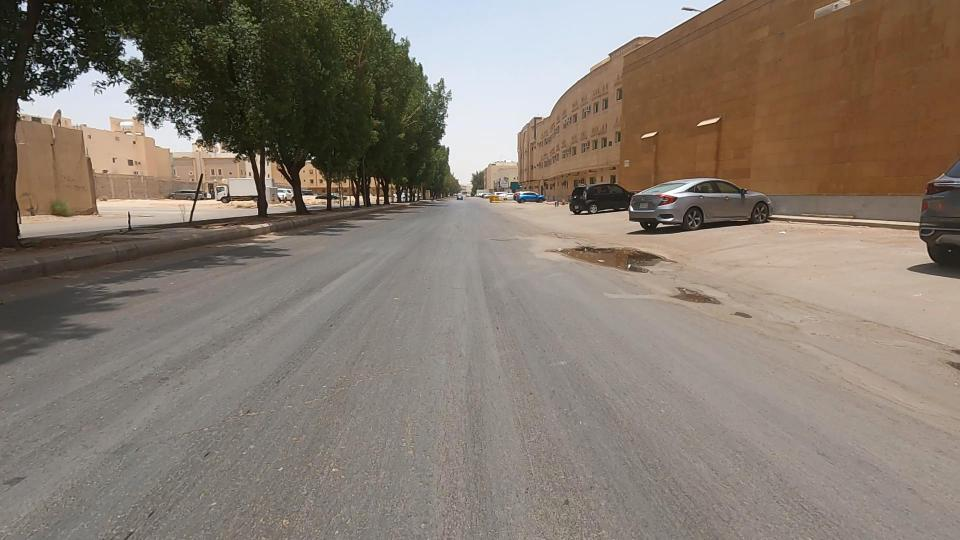POTHOLES: (497, 211, 713, 301), (645, 265, 744, 327)
